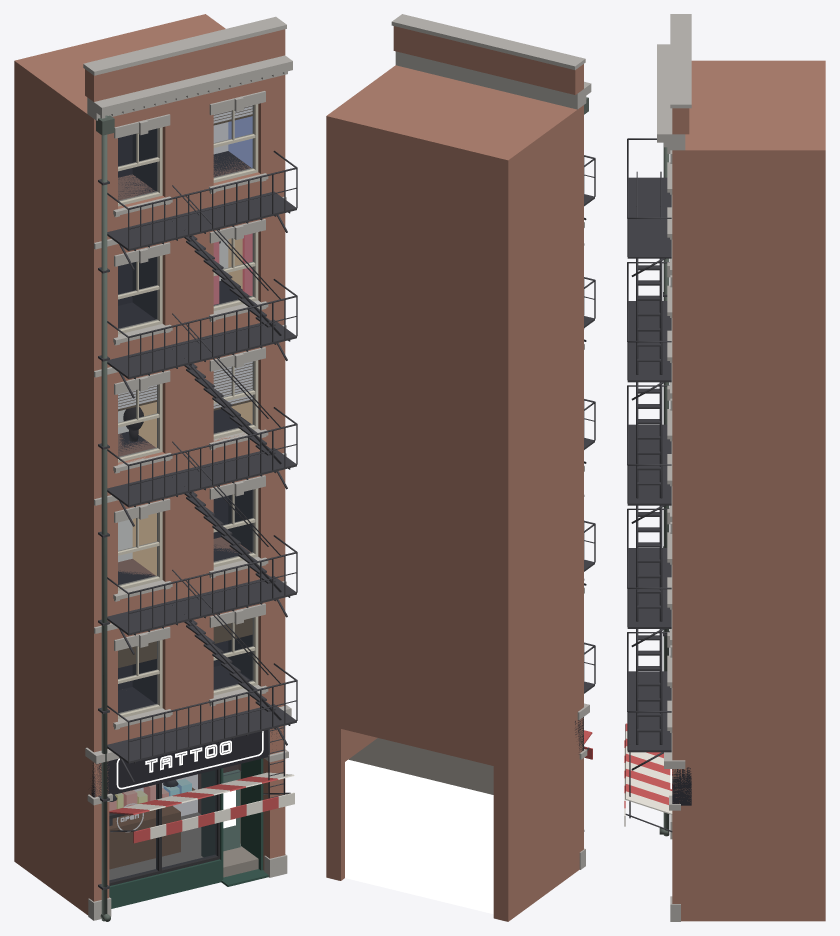
The model's file is bldg_6.glb.
The picture shows the model from 3 angles, left to right: view 1: azimuth 30°, elevation 25°; view 2: azimuth 150°, elevation 25°; view 3: azimuth 270°, elevation 25°; orthographic projection. The views are drawn at different scales.
Visible parts, largest first — view 1: bldg_6; view 2: bldg_6; view 3: bldg_6.
Part boxes in pixels (x1=…): bldg_6: x1=14, y1=14, x2=297, y2=921; bldg_6: x1=326, y1=14, x2=595, y2=921; bldg_6: x1=624, y1=14, x2=825, y2=921.
Bounding box in the file's own units: 5.1 × 21.2 × 4.73.
